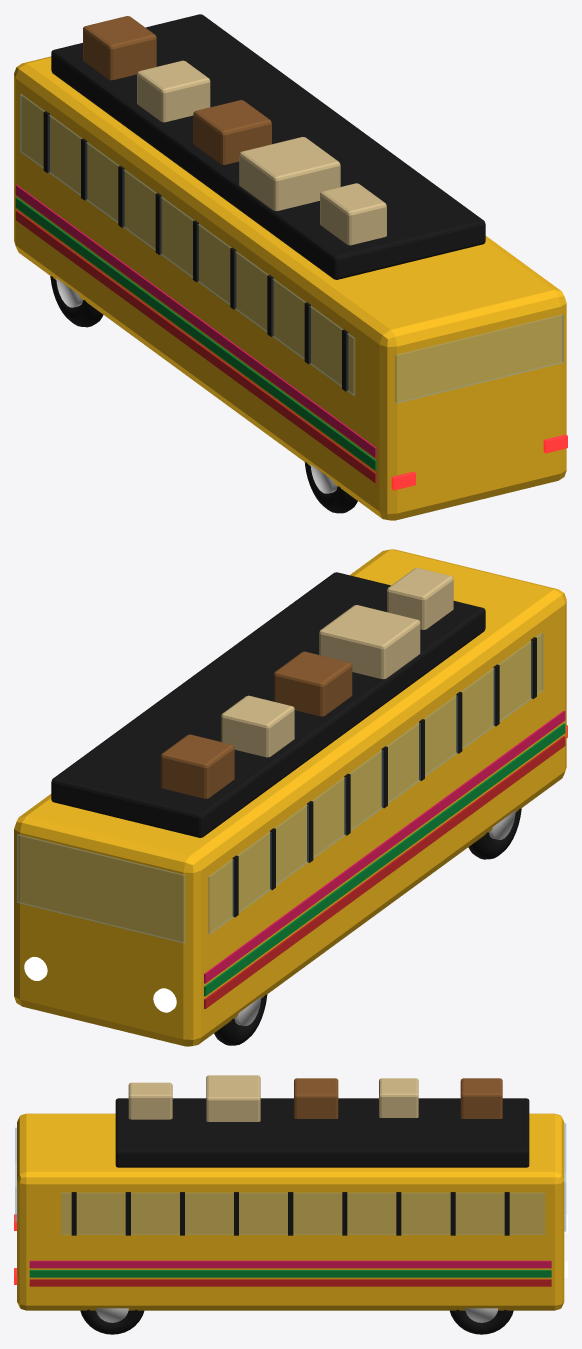
Rendered from bus.glb.
3 renders of one model, top to bottom at view 1: azimuth 30°, elevation 25°; view 2: azimuth 150°, elevation 25°; view 3: azimuth 270°, elevation 25°, orthographic. The views are drawn at different scales.
Visible parts, largest first — view 1: Cube, Cube.029, Cube.001, Cube.028, Cube.033, Cube.012, Cube.011, Cube.013, Cube.030, Cube.032, Cube.031, Cube.034 (+2 smaller); view 2: Cube, Cube.029, Cube.001, Cube.027, Cube.033, Cube.013, Cube.012, Cube.011, Cube.032, Cube.030, Cube.031, Cube.034 (+2 smaller); view 3: Cube, Cube.029, Cube.014, Cube.026, Cube.024, Cube.025, Cube.033, Cube.032, Cube.030, Cube.034, Cube.031, Torus.003 (+3 smaller).
Boxes of the visible parts, x1=… form: Cube: x1=14, y1=56, x2=566, y2=520; Cube.029: x1=51, y1=14, x2=485, y2=279; Cube.001: x1=20, y1=94, x2=354, y2=395; Cube.028: x1=395, y1=314, x2=563, y2=403; Cube.033: x1=239, y1=137, x2=340, y2=210; Cube.012: x1=15, y1=197, x2=376, y2=470; Cube.011: x1=15, y1=210, x2=376, y2=483; Cube.013: x1=15, y1=185, x2=376, y2=457; Cube.030: x1=83, y1=16, x2=156, y2=80; Cube.032: x1=193, y1=100, x2=271, y2=164; Cube.031: x1=137, y1=60, x2=210, y2=122; Cube.034: x1=320, y1=183, x2=386, y2=245; Cube: x1=14, y1=549, x2=566, y2=1046; Cube.029: x1=51, y1=572, x2=485, y2=837; Cube.001: x1=208, y1=633, x2=543, y2=934; Cube.027: x1=17, y1=834, x2=185, y2=943; Cube.033: x1=319, y1=605, x2=420, y2=679; Cube.013: x1=204, y1=710, x2=565, y2=983; Cube.012: x1=204, y1=723, x2=565, y2=996; Cube.011: x1=204, y1=736, x2=565, y2=1008; Cube.032: x1=274, y1=651, x2=352, y2=716; Cube.030: x1=160, y1=734, x2=234, y2=798; Cube.031: x1=221, y1=695, x2=294, y2=757; Cube.034: x1=387, y1=568, x2=453, y2=629; Cube: x1=17, y1=1113, x2=564, y2=1310; Cube.029: x1=115, y1=1098, x2=529, y2=1167; Cube.014: x1=61, y1=1193, x2=544, y2=1234; Cube.026: x1=29, y1=1260, x2=551, y2=1268; Cube.024: x1=29, y1=1279, x2=551, y2=1286; Cube.025: x1=29, y1=1270, x2=551, y2=1277; Cube.033: x1=206, y1=1075, x2=260, y2=1121; Cube.032: x1=294, y1=1078, x2=338, y2=1118; Cube.030: x1=460, y1=1078, x2=502, y2=1118; Cube.034: x1=128, y1=1082, x2=172, y2=1119; Cube.031: x1=379, y1=1078, x2=418, y2=1117; Torus.003: x1=80, y1=1309, x2=144, y2=1334.
Size of the model in its own units: 2.52 by 3.57 by 8.7.
